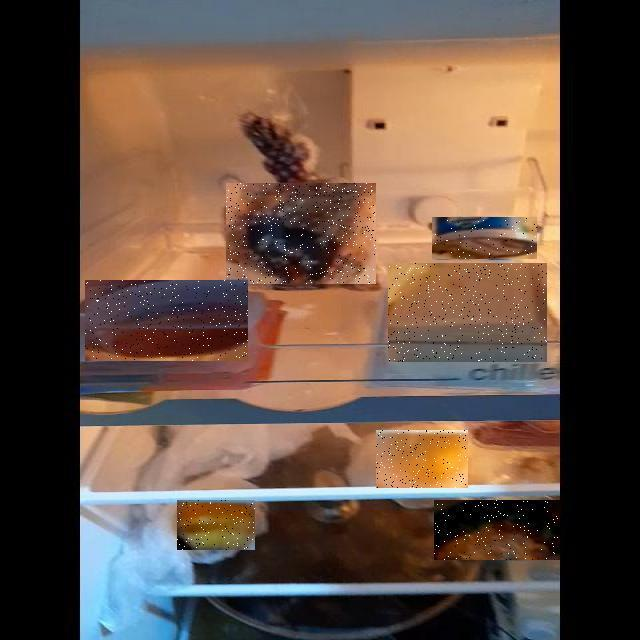Bread: (227, 183, 377, 284)
Cheese: (388, 263, 547, 362)
Chillies: (435, 500, 561, 560)
Lemon: (376, 430, 468, 488), (177, 500, 255, 550)
Sausages: (85, 280, 248, 361)
Yoghurt: (432, 217, 537, 259)
